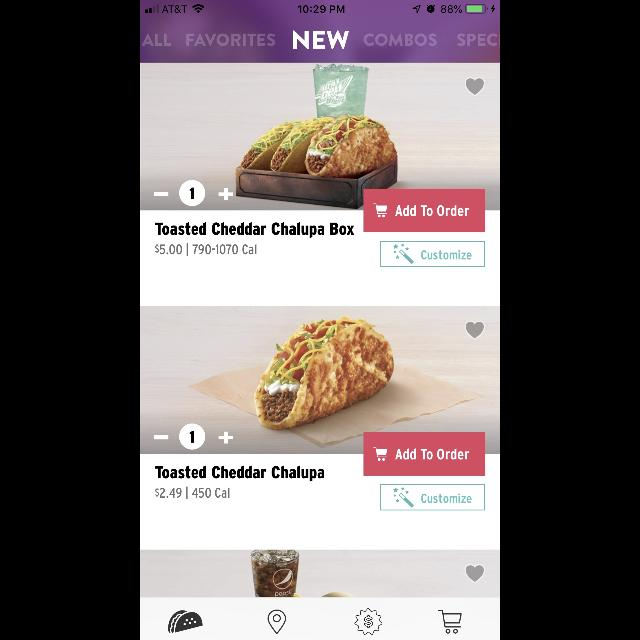icon: (354, 608, 382, 634), (438, 610, 462, 634), (268, 610, 286, 634), (465, 564, 485, 584), (465, 320, 485, 340), (465, 78, 485, 96)
image: (140, 306, 500, 454), (140, 64, 500, 210), (140, 550, 500, 596), (168, 610, 202, 634)
text: (156, 222, 354, 238), (156, 466, 324, 482), (156, 244, 256, 256), (293, 30, 349, 50), (187, 34, 276, 46), (156, 486, 230, 499), (364, 34, 436, 46), (458, 34, 500, 46), (142, 34, 172, 46)
textbutton: (364, 432, 484, 476), (363, 190, 485, 232), (380, 485, 486, 511), (380, 241, 486, 267)
uppertaskbar: (140, 0, 500, 14)
